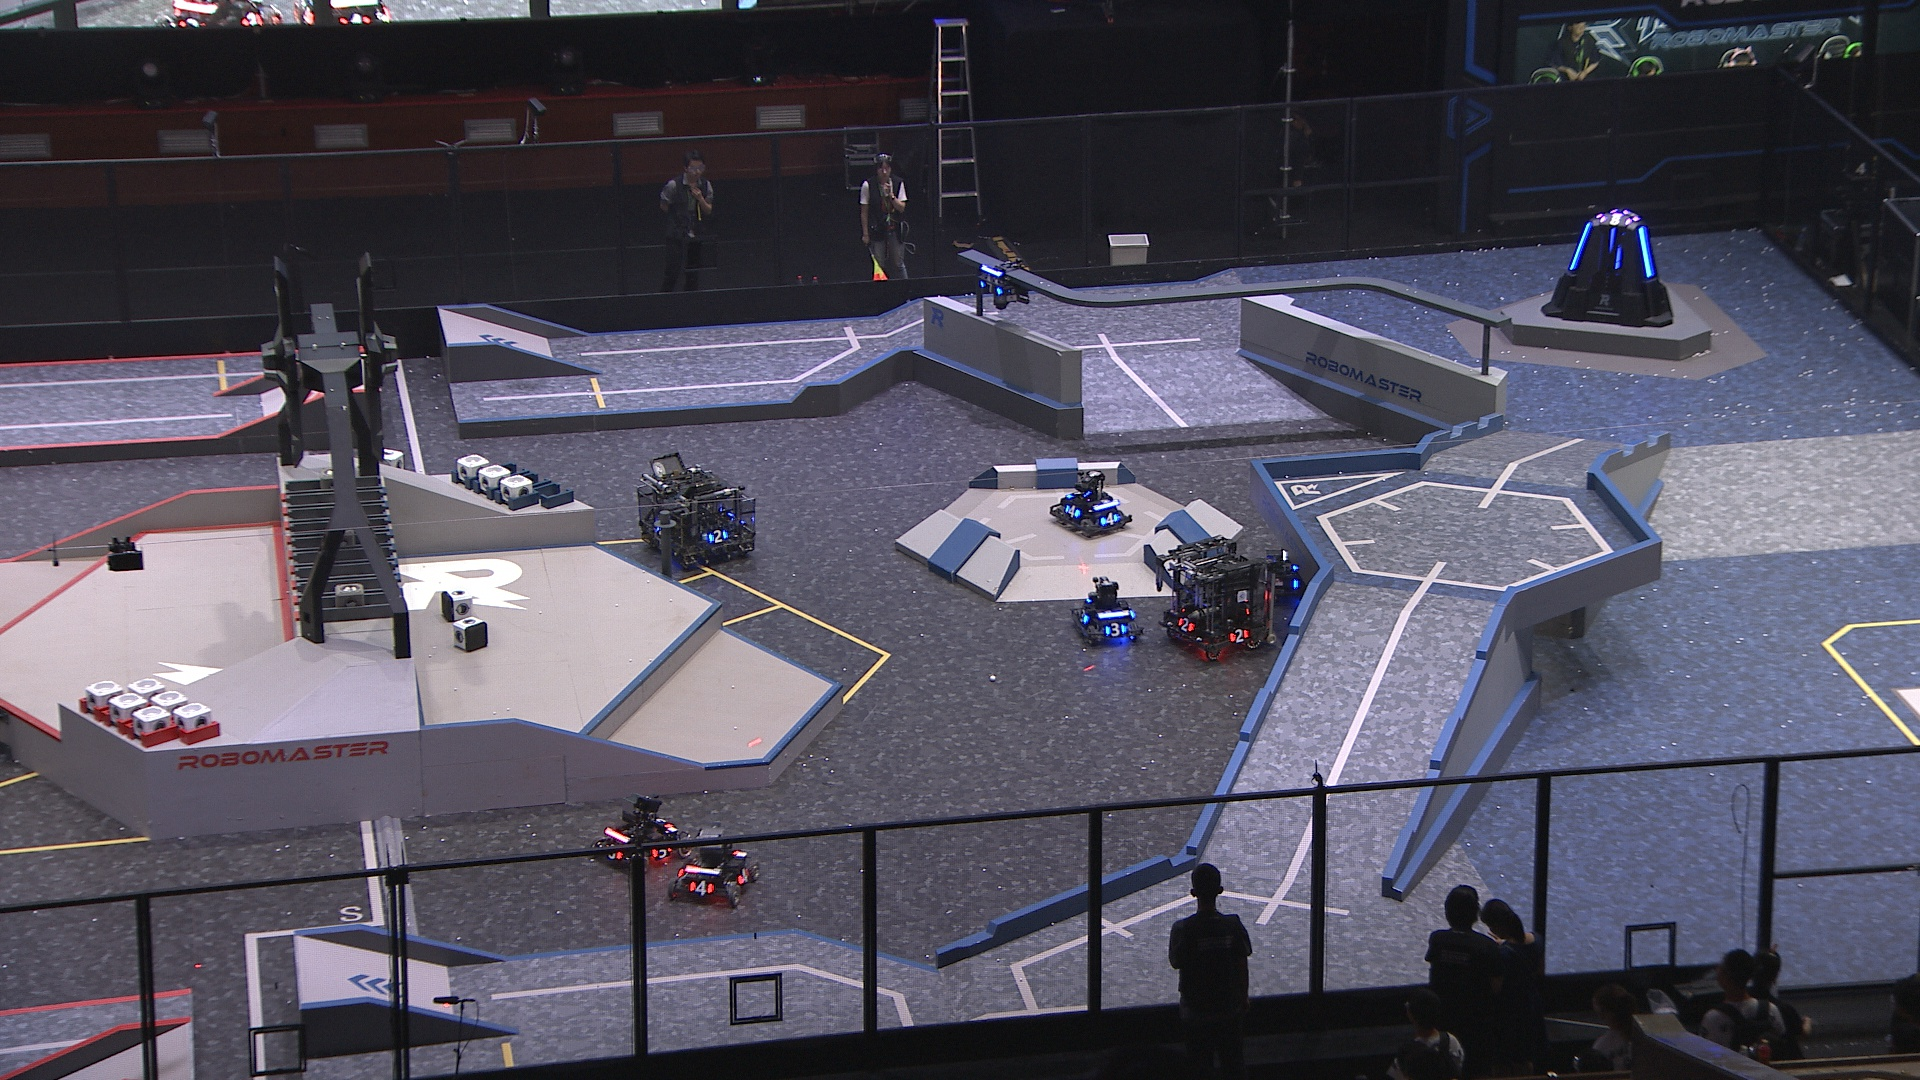armor: (1567, 219, 1596, 272), (1634, 225, 1659, 278), (977, 277, 1006, 301), (1102, 618, 1130, 640), (705, 524, 731, 545), (647, 839, 671, 858), (1062, 501, 1083, 522), (1096, 509, 1120, 527), (688, 880, 713, 897), (603, 841, 624, 861), (1176, 616, 1197, 636), (1229, 626, 1249, 646), (651, 814, 675, 829), (1060, 484, 1084, 500), (735, 864, 752, 885), (1607, 225, 1619, 253), (1073, 608, 1091, 626)
base: (1534, 207, 1676, 334)
car: (1155, 534, 1283, 665), (637, 452, 764, 570), (1261, 493, 1378, 599), (666, 837, 765, 911), (596, 798, 695, 870), (1046, 467, 1135, 543), (1067, 570, 1145, 650)
ignore: (1596, 211, 1633, 228)
watcher: (975, 253, 1031, 311)
